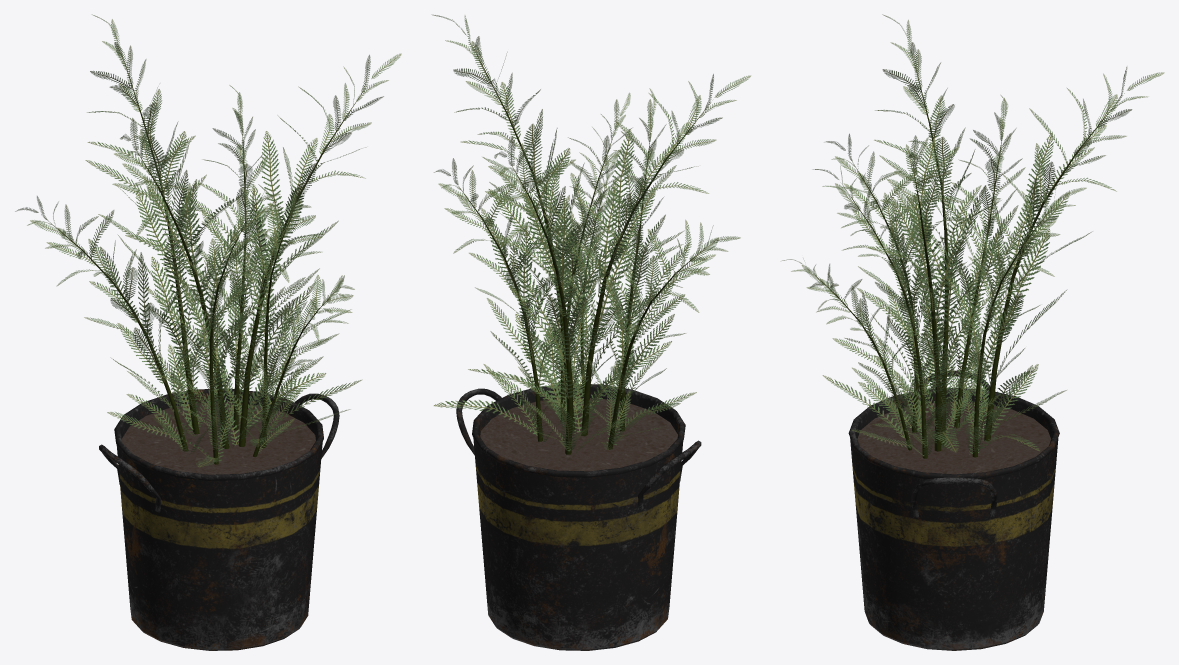
The model's file is resident_evil_3_-_green_herb_potted.glb.
The picture shows the model from 3 angles, left to right: view 1: azimuth 30°, elevation 25°; view 2: azimuth 150°, elevation 25°; view 3: azimuth 270°, elevation 25°; orthographic projection.
Visible parts, largest first — view 1: SM_GreenHerb; view 2: SM_GreenHerb; view 3: SM_GreenHerb.
Part boxes in pixels (x1=…): SM_GreenHerb: x1=15, y1=14, x2=401, y2=650; SM_GreenHerb: x1=432, y1=14, x2=750, y2=650; SM_GreenHerb: x1=782, y1=14, x2=1164, y2=650.
Size of the model in its own units: 53.53 by 80.06 by 51.43.
Materials: 1 (1 with a texture image).
